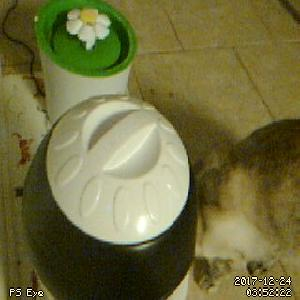cat: (192, 117, 300, 295)
fountain: (33, 1, 137, 79)
